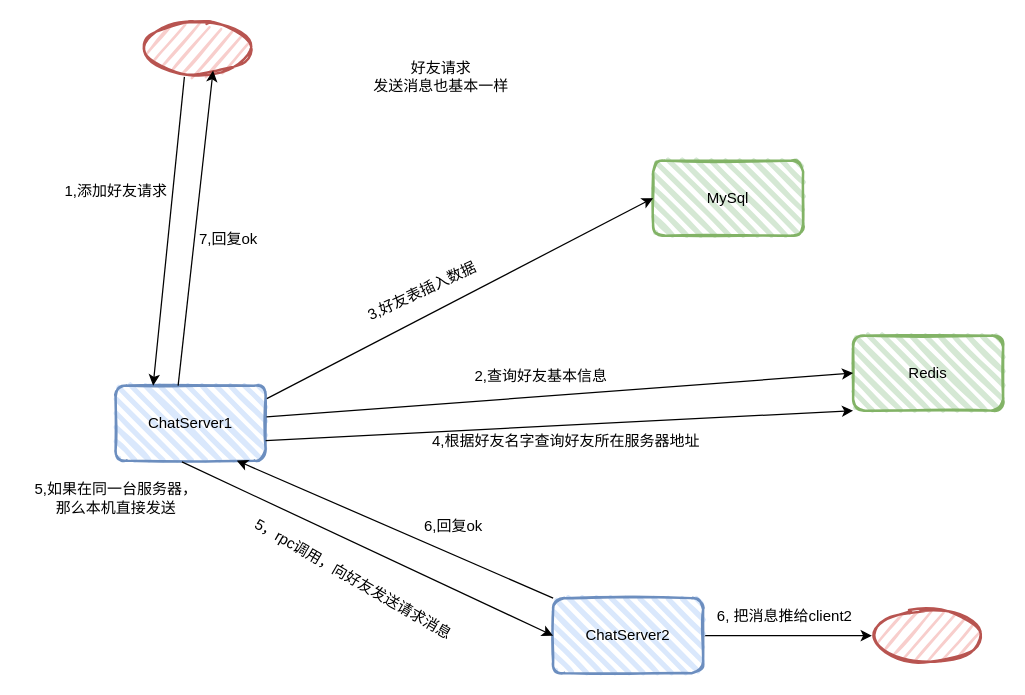
The diagram is 1025 pixels wide and 695 high, and some of its shapes have lost their labels. The centre of each missing label's shape, as x and y in pixels:
Client1: point 196,47
Client2: point 927,635
